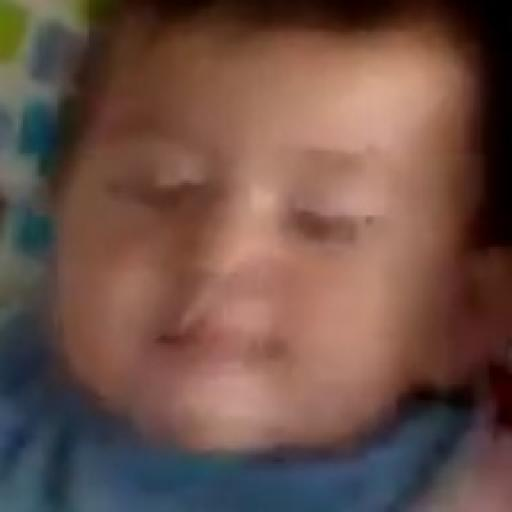Autism: (46, 0, 455, 491)
